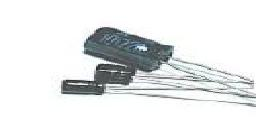Electrolytic-Capacitor: (82, 25, 187, 71), (60, 76, 189, 101), (94, 62, 150, 86)
